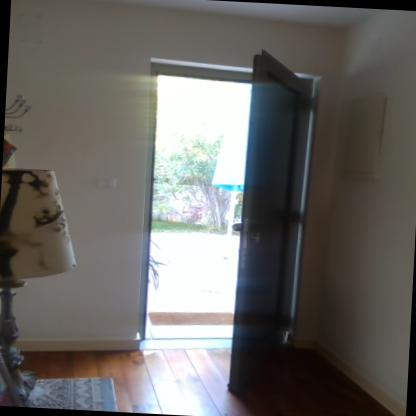semi: (126, 39, 324, 394)
